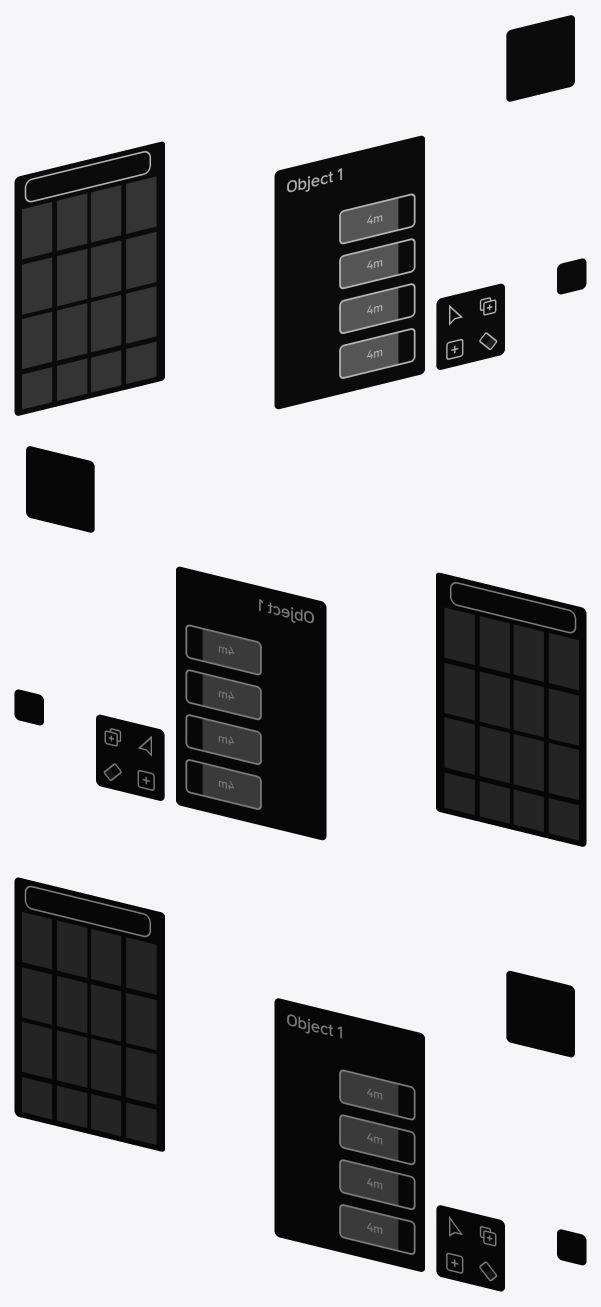
The model's file is s_gui.glb.
3 renders of one model, top to bottom at view 1: azimuth 30°, elevation 25°; view 2: azimuth 150°, elevation 25°; view 3: azimuth 330°, elevation 25°, orthographic.
Parts seen in each view (by area): view 1: gui-state0, Plane.007; view 2: gui-state0, Plane.008, Plane.007, Plane.006; view 3: gui-state0, Plane.007, Plane.005.
Part boxes in pixels (x1,y1,x2,y2): gui-state0: (14, 15, 586, 415); Plane.007: (276, 234, 419, 408); gui-state0: (14, 531, 586, 846); Plane.008: (436, 572, 586, 846); Plane.007: (176, 566, 326, 839); Plane.006: (26, 446, 94, 532); gui-state0: (14, 877, 586, 1291); Plane.007: (274, 998, 328, 1247); Plane.005: (436, 1205, 502, 1290).
Bounding box in the file's own units: 1.67 × 0.8993 × 6.29e-08.
Materials: 1 (1 with a texture image).
